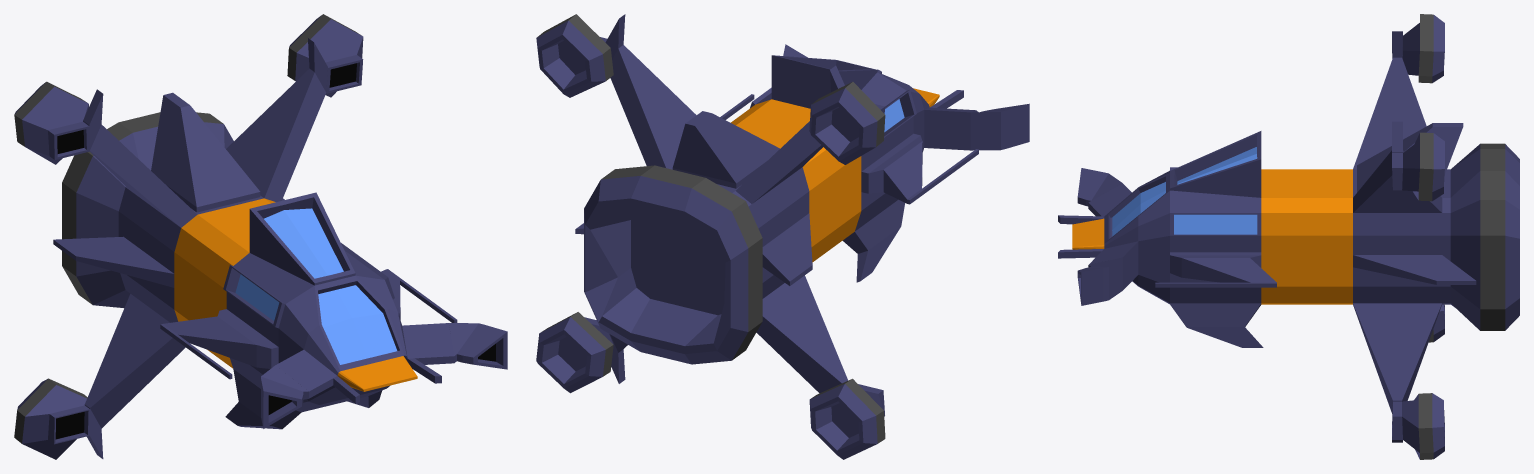
Rendered from CelestialEnigma412.glb.
The picture shows the model from 3 angles, left to right: view 1: azimuth 30°, elevation 25°; view 2: azimuth 150°, elevation 25°; view 3: azimuth 270°, elevation 25°; orthographic projection. The views are drawn at different scales.
Parts seen in each view (by area): view 1: CelestialEnigma412; view 2: CelestialEnigma412; view 3: CelestialEnigma412.
Part boxes in pixels (<box>): CelestialEnigma412: <box>14,14,507,459</box>; CelestialEnigma412: <box>536,14,1029,459</box>; CelestialEnigma412: <box>1058,14,1519,459</box>.
Bounding box in the file's own units: 19.87 × 20.78 × 26.5.
Materials: 1 (1 with a texture image).
